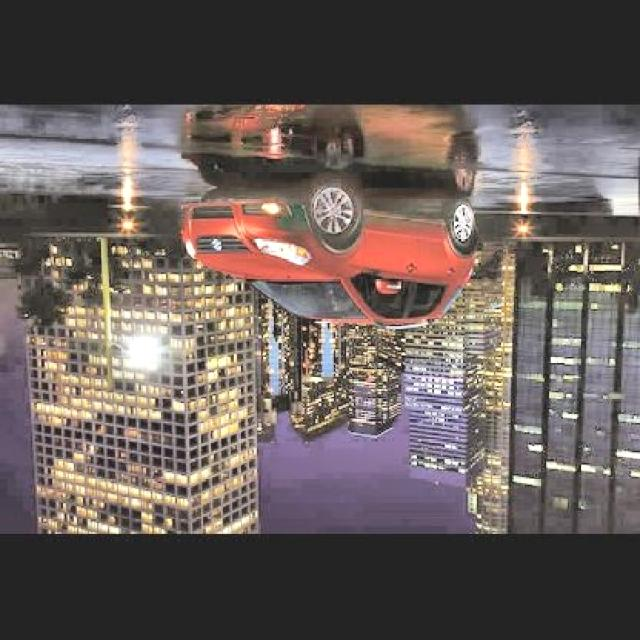red: (187, 174, 489, 329)
